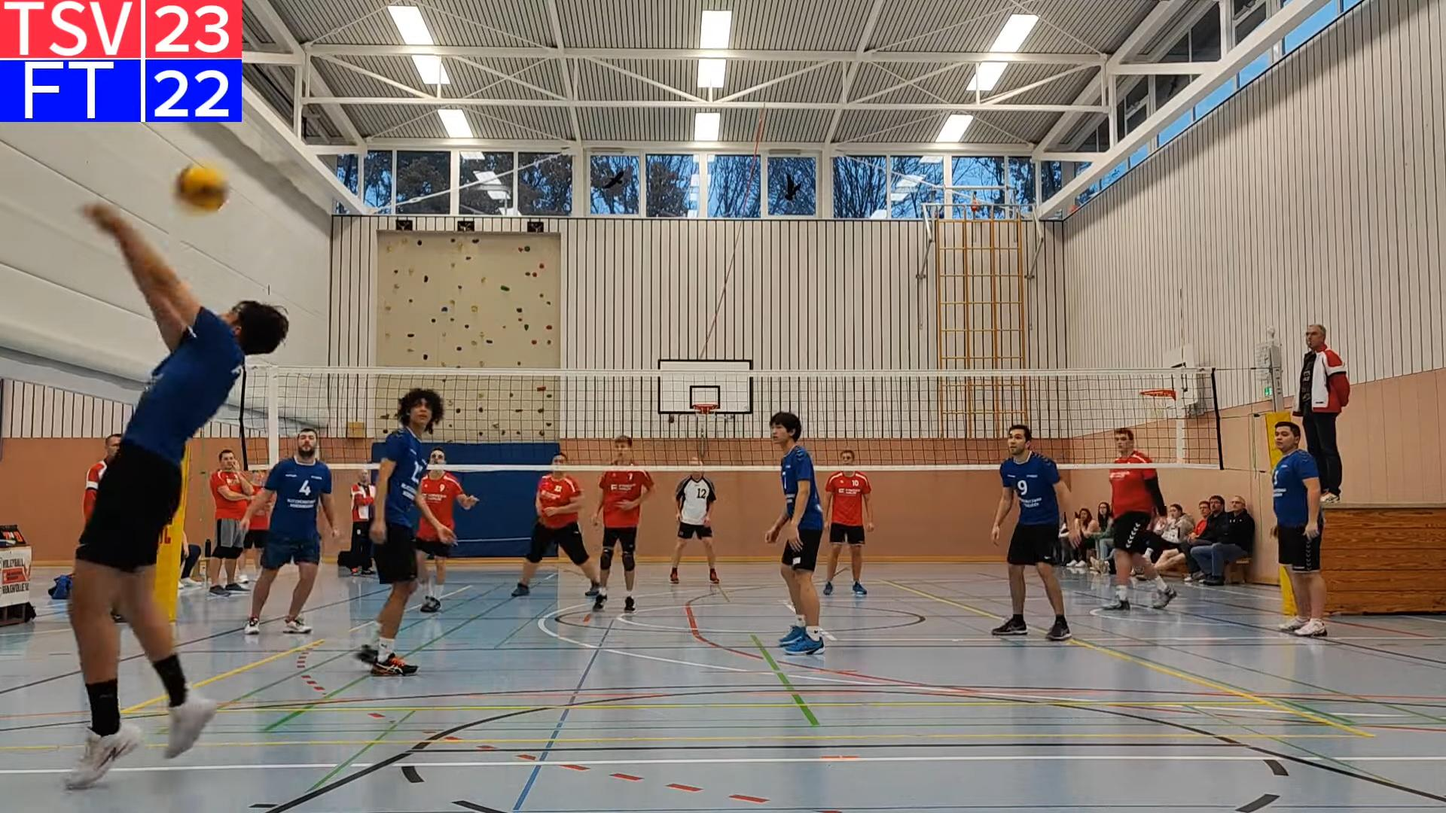difesa: (1, 202, 294, 790)
